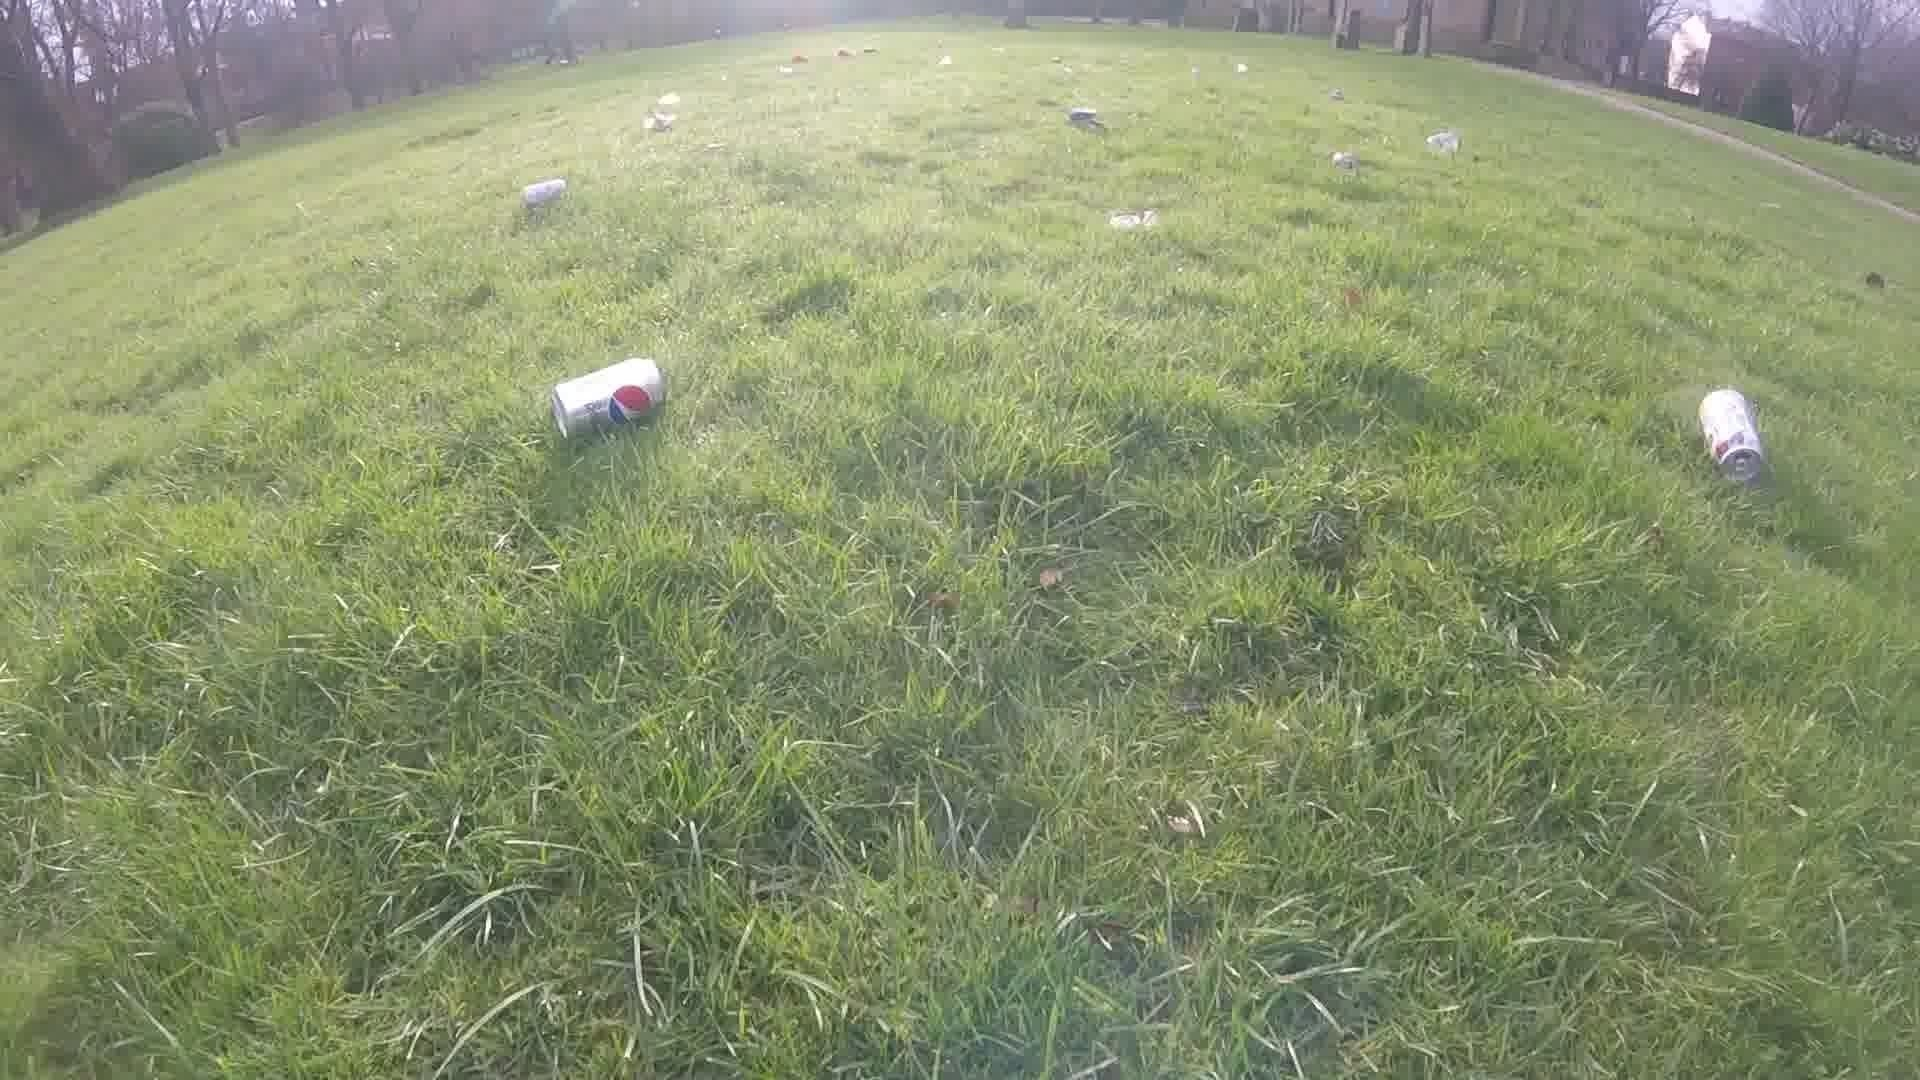litter: (549, 353, 665, 444), (1692, 385, 1762, 483), (522, 177, 562, 207), (1106, 208, 1156, 231), (636, 113, 679, 135), (1068, 105, 1098, 131), (1327, 145, 1356, 170), (1428, 128, 1456, 153), (1859, 268, 1883, 286), (649, 96, 674, 109), (1230, 58, 1253, 73), (1324, 88, 1346, 103), (829, 47, 858, 58), (934, 53, 956, 66), (775, 66, 800, 75), (786, 55, 810, 63)
